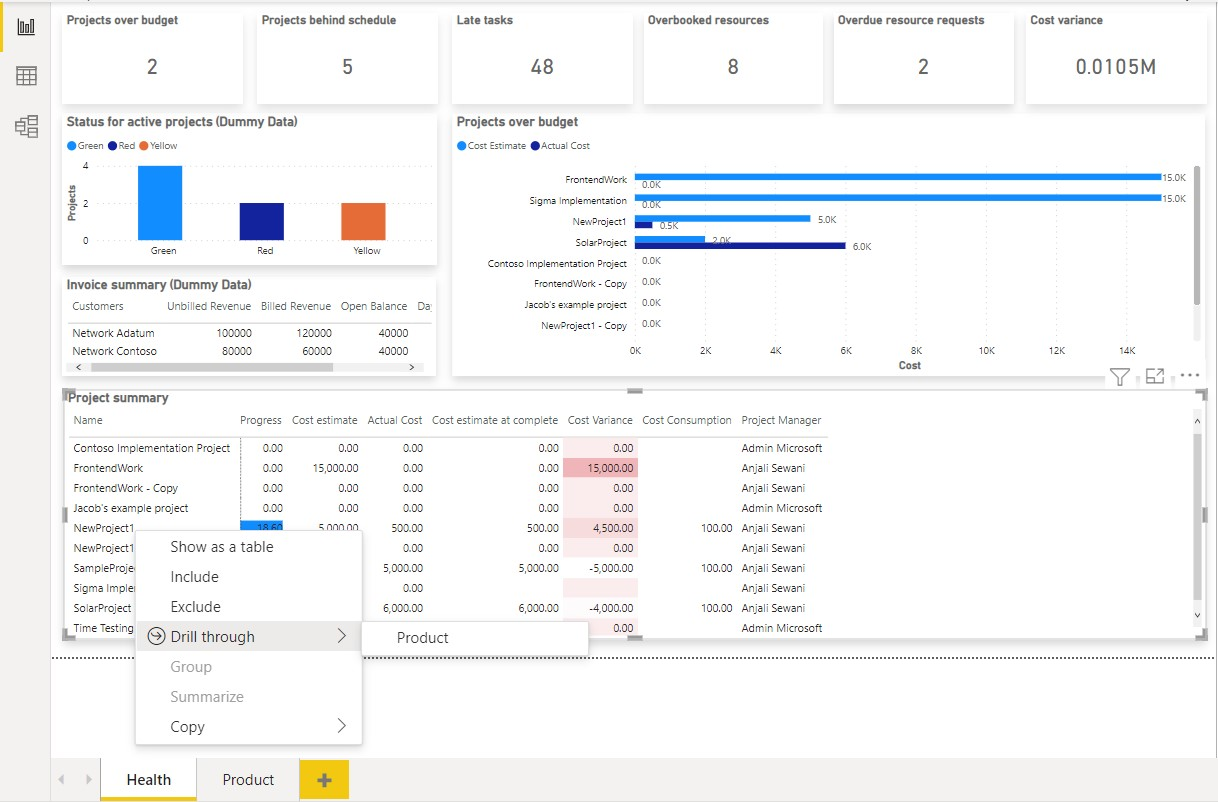

This screenshot's page, from the dashboard's own definition file:
{"tool":"powerbi","page":{"name":"Health","canvas":[1280,720],"ordinal":0},"visuals":[{"type":"clusteredBarChart","title":"Projects over budget","fields":{"Category":["Projects.msdyn_subject"],"Y":["Sum(Projects.msdyn_totalplannedcost)","Sum(Projects.msdyn_totalactualcost)"]},"box":[441.3,122.2,827.6,288.5],"z":0},{"type":"columnChart","title":"Status for active projects (Dummy Data)","fields":{"Category":["Status for active projects.Status"],"Series":["Status for active projects.Status"],"Y":["CountNonNull(Status for active projects.Status)"]},"box":[12.2,122.2,412,167.5],"z":1},{"type":"tableEx","title":"Invoice summary (Dummy Data)","fields":{"Values":["Invoice Summary.Customers","Sum(Invoice Summary.Unbilled Revenue)","Sum(Invoice Summary.Billed Revenue)","Sum(Invoice Summary.Open Balance)","Sum(Invoice Summary.Day Sales Outstanding)"]},"box":[12.2,301.9,410.7,108.8],"z":2},{"type":"tableEx","title":"Project summary","fields":{"Values":["Projects.msdyn_subject","Sum(Projects.msdyn_progress)","Sum(Projects.msdyn_totalplannedcost)","Sum(Projects.msdyn_totalactualcost)","Sum(Projects.msdyn_costestimateatcomplete)","Sum(Projects.msdyn_costvariance)","Sum(Projects.msdyn_costconsumption)","Projects.msdyn_projectmanagername"]},"box":[13.4,425.4,1255.4,275],"z":3},{"type":"card","title":"Projects over budget","fields":{"Values":["CountNonNull(ProjectsOverBudget.DifferenceInBudget)"]},"box":[12.2,12.7,198,100.2],"z":4},{"type":"card","title":"Projects behind schedule","fields":{"Values":["Sum(Health Cards.Projects behind Schedule)"]},"box":[226.1,12.7,198,100.2],"z":5},{"type":"card","title":"Late tasks","fields":{"Values":["AllLateTasks.LateTasksCount"]},"box":[441.3,12.2,198,100.2],"z":6},{"type":"card","title":"    Overbooked resources","fields":{"Values":["Sum(Health Cards.Overbooked Resources)"]},"box":[650.3,12.2,196.8,100.2],"z":7},{"type":"card","title":"Overdue resource requests","fields":{"Values":["Sum(Health Cards.Overdue Resource Requests)"]},"box":[859.4,12.7,198,100.2],"z":8},{"type":"card","title":"Cost variance","fields":{"Values":["Sum(Projects.msdyn_costvariance)"]},"box":[1070.8,12.2,198,100.2],"z":9}]}

Visuals, with their boxes on the page's 1280x720 design canvas (x1, y1, x2, y2). These are canvas units, not pixel positions in the 1218x802 screenshot, which may show the page scaled, cropped or inside an application window:
"Projects over budget" clusteredBarChart: 441/122/1269/411
"Status for active projects (Dummy Data)" columnChart: 12/122/424/290
"Invoice summary (Dummy Data)" tableEx: 12/302/423/411
"Project summary" tableEx: 13/425/1269/700
"Projects over budget" card: 12/13/210/113
"Projects behind schedule" card: 226/13/424/113
"Late tasks" card: 441/12/639/112
"    Overbooked resources" card: 650/12/847/112
"Overdue resource requests" card: 859/13/1057/113
"Cost variance" card: 1071/12/1269/112
